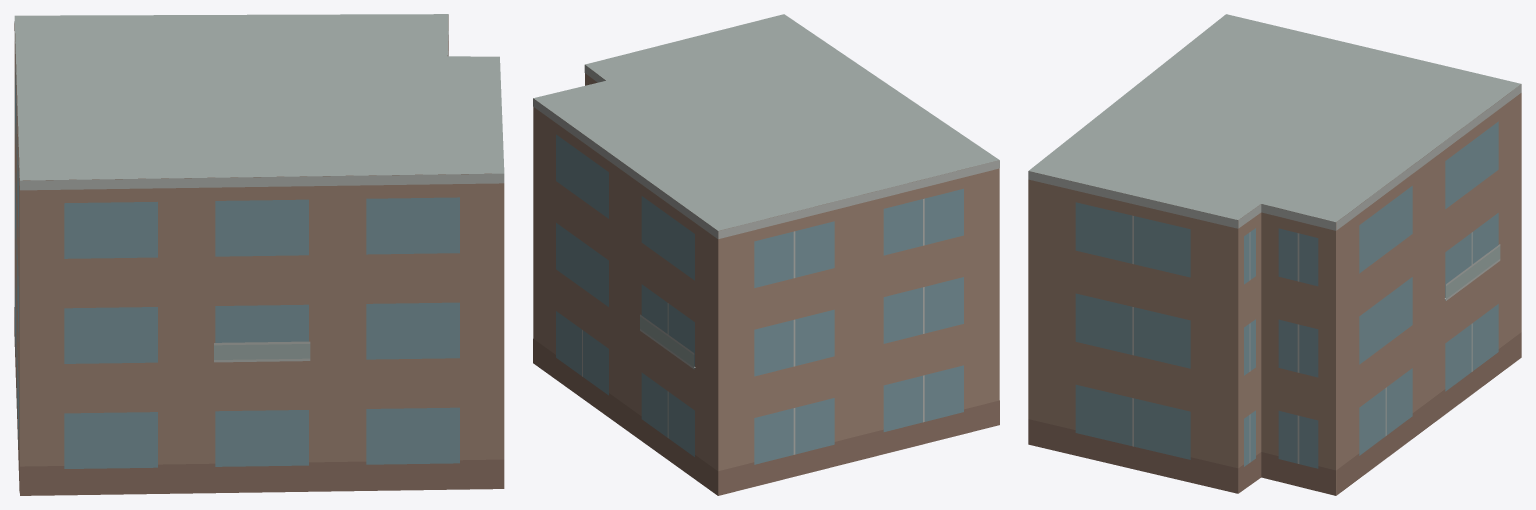
The model's file is survey-upis-32881209.glb.
3 renders of one model, left to right at view 1: azimuth 30°, elevation 25°; view 2: azimuth 150°, elevation 25°; view 3: azimuth 270°, elevation 25°, orthographic. The views are drawn at different scales.
Visible parts, largest first — view 1: survey-upis-32881209.tmp; view 2: survey-upis-32881209.tmp; view 3: survey-upis-32881209.tmp.
Part boxes in pixels (x1,y1,x2,y2): survey-upis-32881209.tmp: (14,14,504,495); survey-upis-32881209.tmp: (533,14,999,495); survey-upis-32881209.tmp: (1028,14,1521,495).
Bounding box in the file's own units: 12.66 × 7.75 × 12.67.
